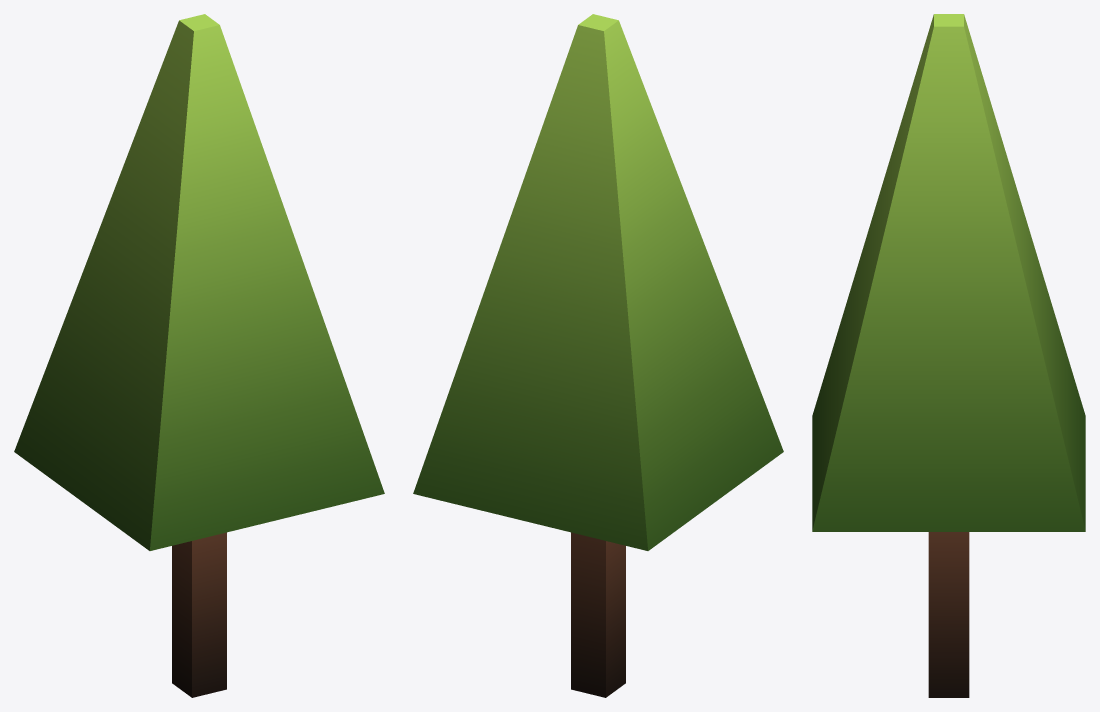
File: fir tree 1.fbx
The picture shows the model from 3 angles, left to right: view 1: azimuth 30°, elevation 25°; view 2: azimuth 150°, elevation 25°; view 3: azimuth 270°, elevation 25°; orthographic projection.
Parts seen in each view (by area): view 1: fir tree 1; view 2: fir tree 1; view 3: fir tree 1.
Part boxes in pixels (x1,y1,x2,y2): fir tree 1: (14, 14, 384, 697); fir tree 1: (413, 14, 783, 697); fir tree 1: (812, 14, 1085, 697).
Bounding box in the file's own units: 7.3 × 19.69 × 7.3.
